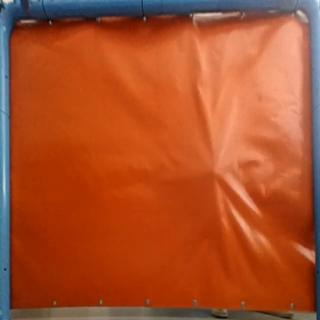Hit-hRxx: (206, 162, 225, 178)
